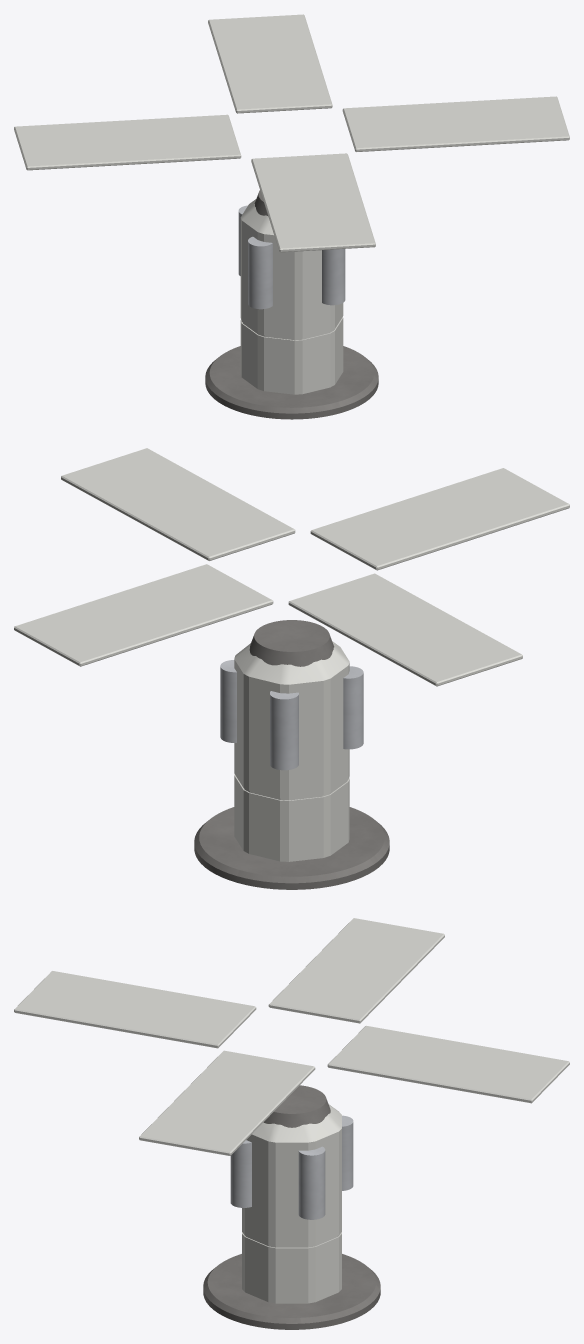
The model's file is ax_power_07_fission_surface_10_deployed.glb.
3 views of the same model, one above another, from view 1: azimuth 30°, elevation 25°; view 2: azimuth 150°, elevation 25°; view 3: azimuth 270°, elevation 25° (orthographic). The views are drawn at different scales.
Parts seen in each view (by area): view 1: reactor_vessel, panel_radiator_2, panel_radiator_4, panel_radiator_3, panel_radiator_1, deck_mount, stirling_converters; view 2: reactor_vessel, panel_radiator_1, panel_radiator_3, panel_radiator_2, panel_radiator_4, deck_mount, stirling_converters, top_shield; view 3: reactor_vessel, panel_radiator_1, panel_radiator_3, panel_radiator_2, panel_radiator_4, deck_mount, stirling_converters, top_shield.
Part boxes in pixels (<box>): reactor_vessel: <box>240,199,343,394</box>; panel_radiator_2: <box>14,114,241,170</box>; panel_radiator_4: <box>342,96,569,151</box>; panel_radiator_3: <box>251,153,375,252</box>; panel_radiator_1: <box>208,14,332,113</box>; deck_mount: <box>205,346,378,419</box>; stirling_converters: <box>238,205,345,309</box>; reactor_vessel: <box>234,641,349,861</box>; panel_radiator_1: <box>14,564,273,666</box>; panel_radiator_3: <box>310,468,569,570</box>; panel_radiator_2: <box>288,573,522,686</box>; panel_radiator_4: <box>61,448,295,560</box>; deck_mount: <box>194,807,389,889</box>; stirling_converters: <box>220,660,363,770</box>; top_shield: <box>249,620,334,666</box>; reactor_vessel: <box>242,1104,341,1303</box>; panel_radiator_1: <box>327,1025,569,1103</box>; panel_radiator_3: <box>14,971,256,1048</box>; panel_radiator_2: <box>268,918,444,1023</box>; panel_radiator_4: <box>139,1050,315,1155</box>; deck_mount: <box>203,1254,380,1329</box>; stirling_converters: <box>230,1115,353,1219</box>; top_shield: <box>263,1085,330,1127</box>.
Size of the model in its own units: 5.01 by 2.56 by 5.01.
Materials: 3 (2 with a texture image).
